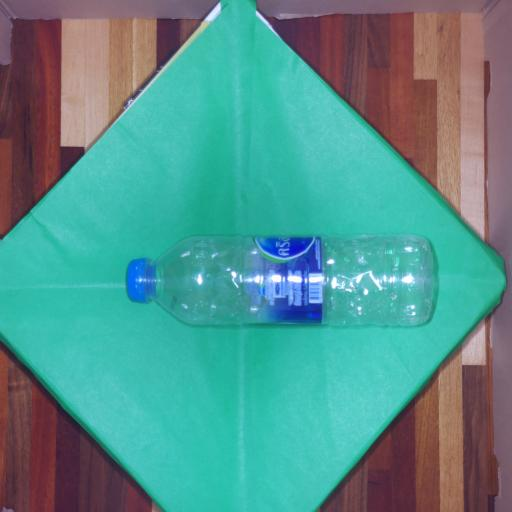bottle: (101, 198, 445, 356)
